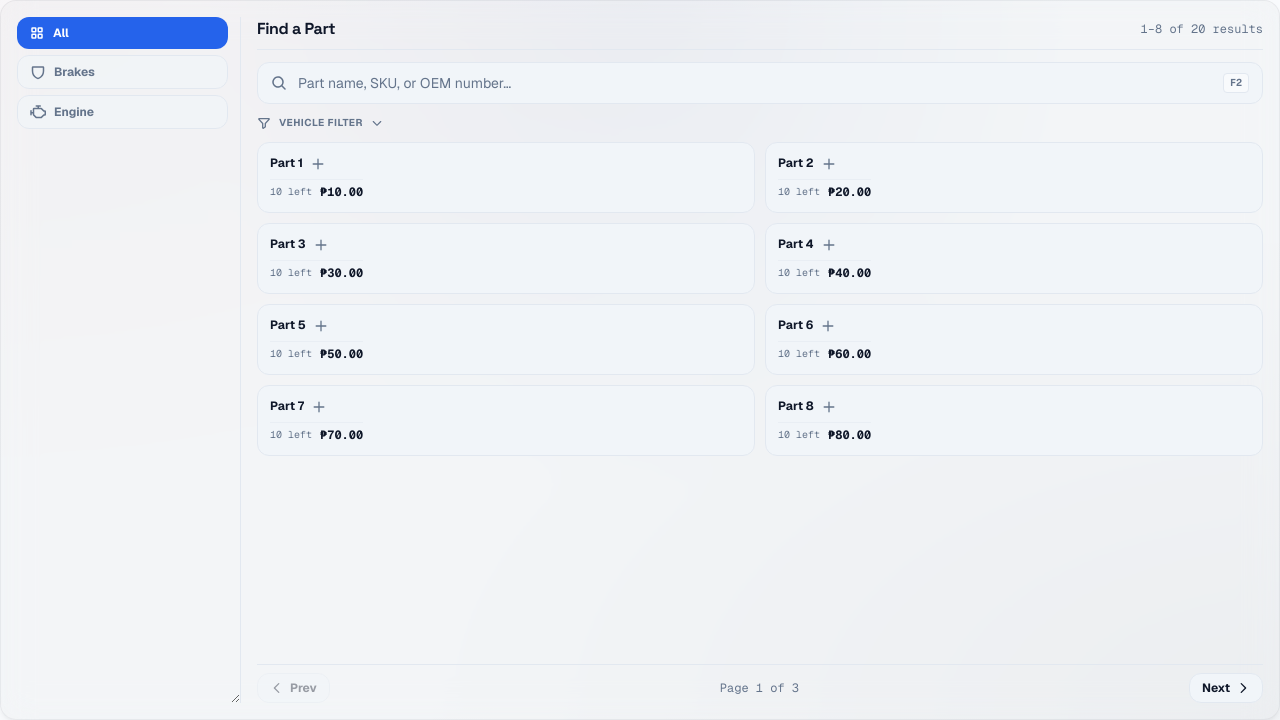
PosCatalogPanel Component Tests › filters items by selected category and resets pagination to page 1
// Go to page 2 first
Click the button with aria-label "next page". click: (1226, 688)
box: [1189, 673, 1263, 703]
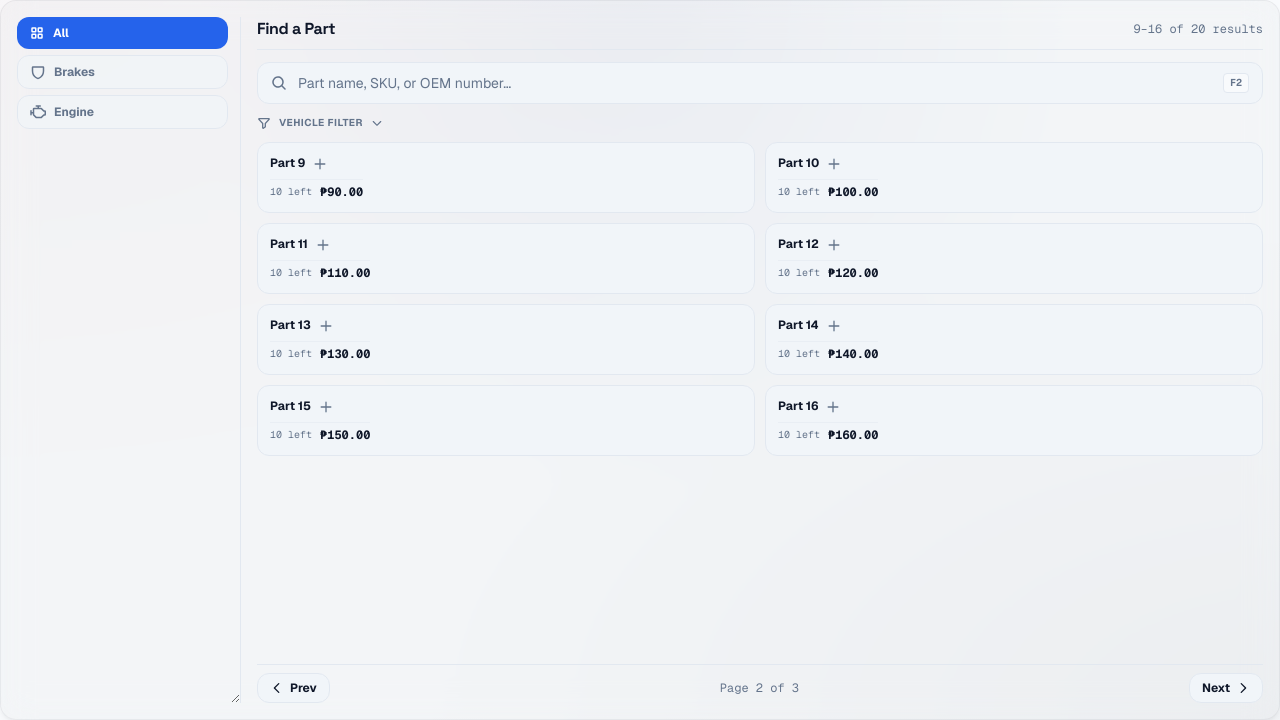
Result: the text "9–16 of 20 results" is shown at [1133, 21, 1263, 37]
// Select 'Brakes' category (10 items)
Click the button "Brakes". click: (122, 72)
box: [17, 55, 228, 89]
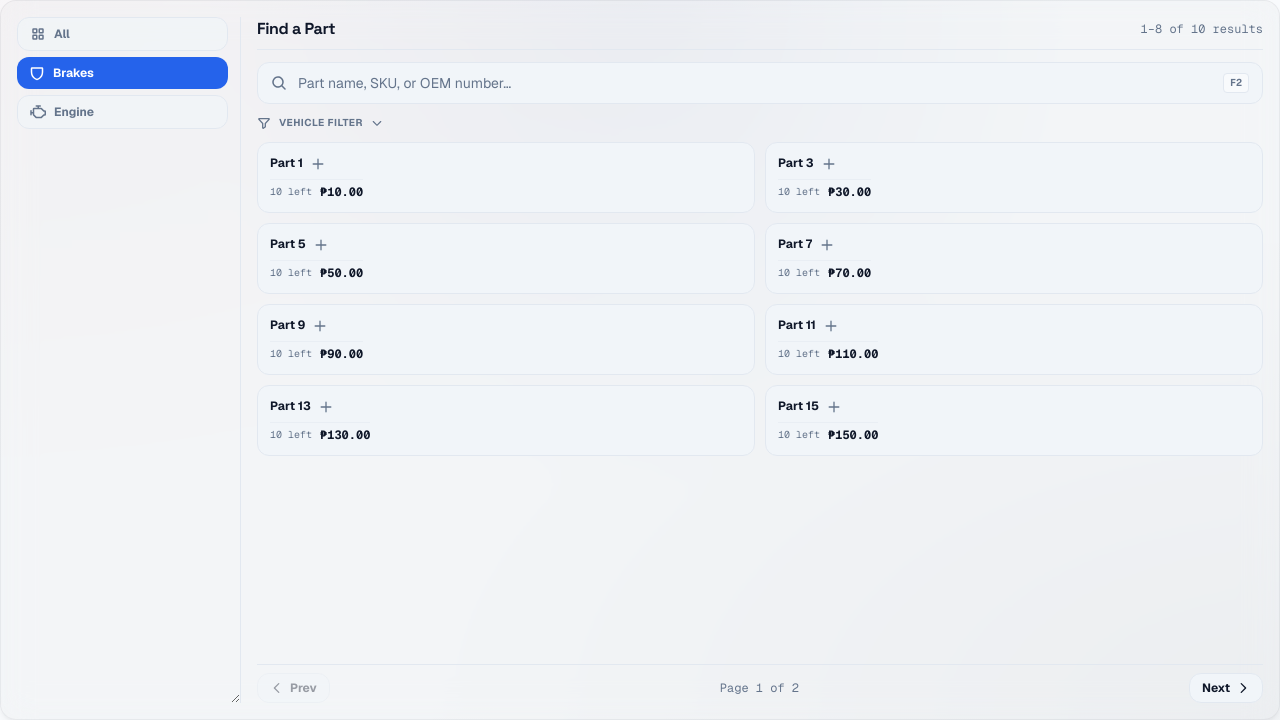
Result: the text "1–8 of 10 results" is shown at [1141, 21, 1263, 37]
Result: the button with aria-label "previous page" is disabled at [257, 673, 330, 703]
